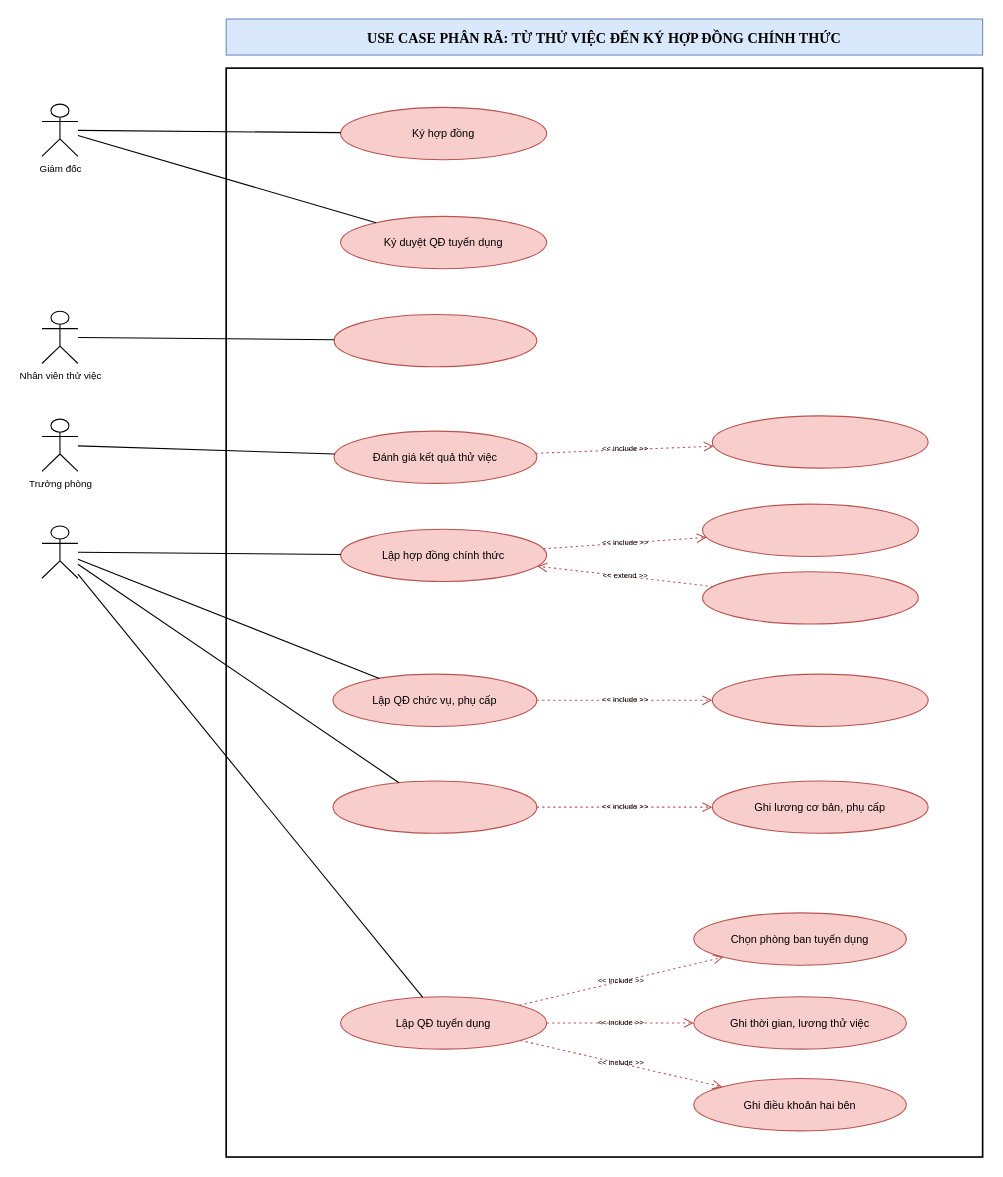
Image size: 1003x1177. Some labels were removed from this diagram. Each missing label, with the centre of its shape:
Chọn chức vụ và phụ cấp: pixel 819 699
Chọn loại hợp đồng: pixel 809 529
Ghi nhận kết quả thử việc: pixel 819 441
Lập hồ sơ BHYT, BHXH: pixel 809 597
Lập QĐ lương: pixel 434 806
Nhân viên nhân sự: pixel 59 551
Thử việc tại phòng ban: pixel 435 340
